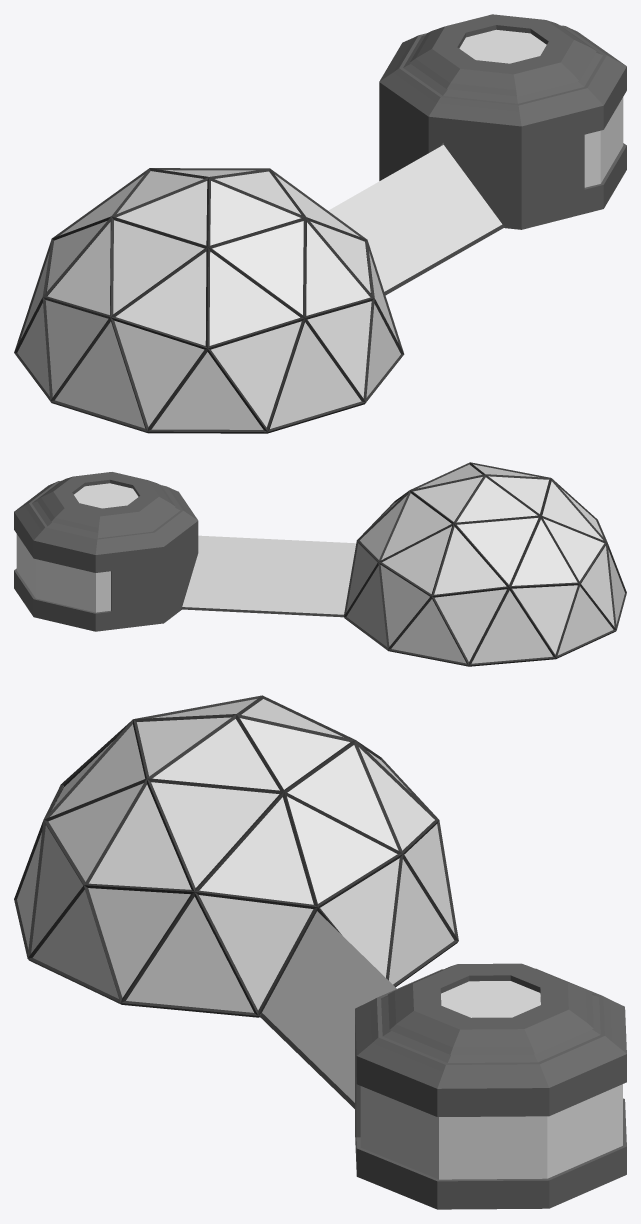
Rendered from Domos_unidos.fbx.
3 views of the same model, one above another, from view 1: azimuth 30°, elevation 25°; view 2: azimuth 150°, elevation 25°; view 3: azimuth 270°, elevation 25° (orthographic). The views are drawn at different scales.
Parts seen in each view (by area): view 1: Capsula 2.003; view 2: Capsula 2.003; view 3: Capsula 2.003.
Boxes of the visible parts, x1,y1,x2,y2 form: Capsula 2.003: [14, 14, 626, 433]; Capsula 2.003: [14, 462, 626, 666]; Capsula 2.003: [14, 695, 626, 1209].
Size of the model in its own units: 1701 by 450 by 1151.
2 materials, 1 textured.
